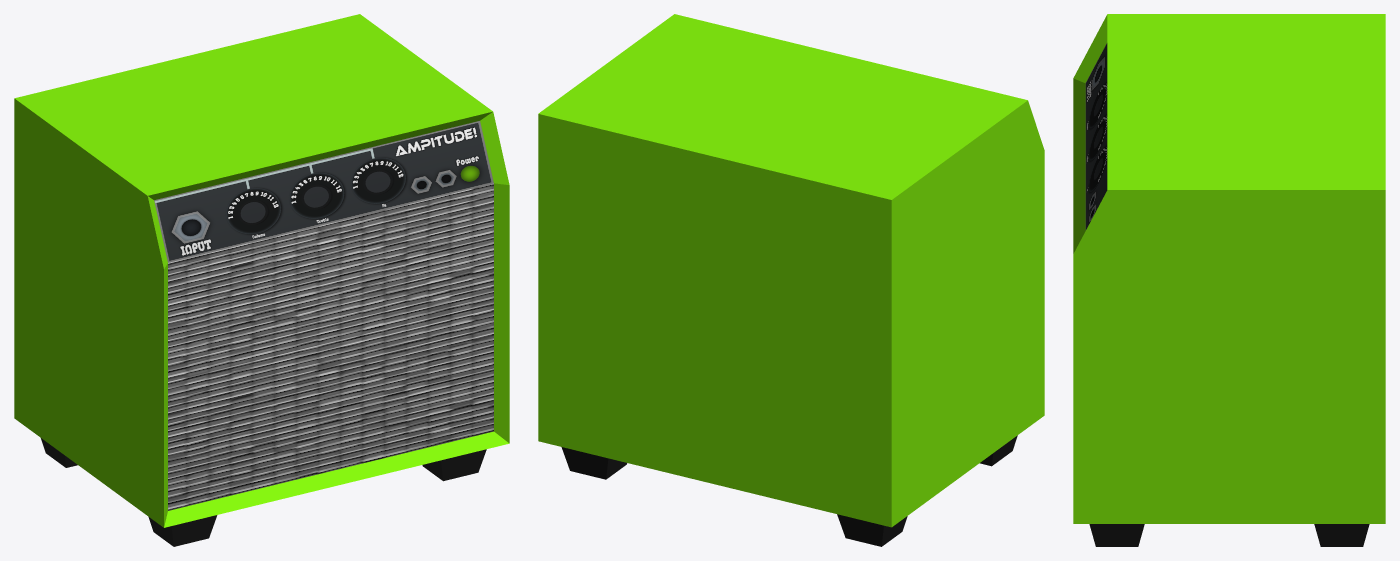
The model's file is Amp_F.FBX.
The picture shows the model from 3 angles, left to right: view 1: azimuth 30°, elevation 25°; view 2: azimuth 150°, elevation 25°; view 3: azimuth 270°, elevation 25°; orthographic projection. The views are drawn at different scales.
Visible parts, largest first — view 1: Amp; view 2: Amp; view 3: Amp.
Part boxes in pixels (<box>): Amp: <box>14,14,509,546</box>; Amp: <box>538,14,1044,546</box>; Amp: <box>1073,14,1385,546</box>.
Bounding box in the file's own units: 55.04 × 53.57 × 41.28.
